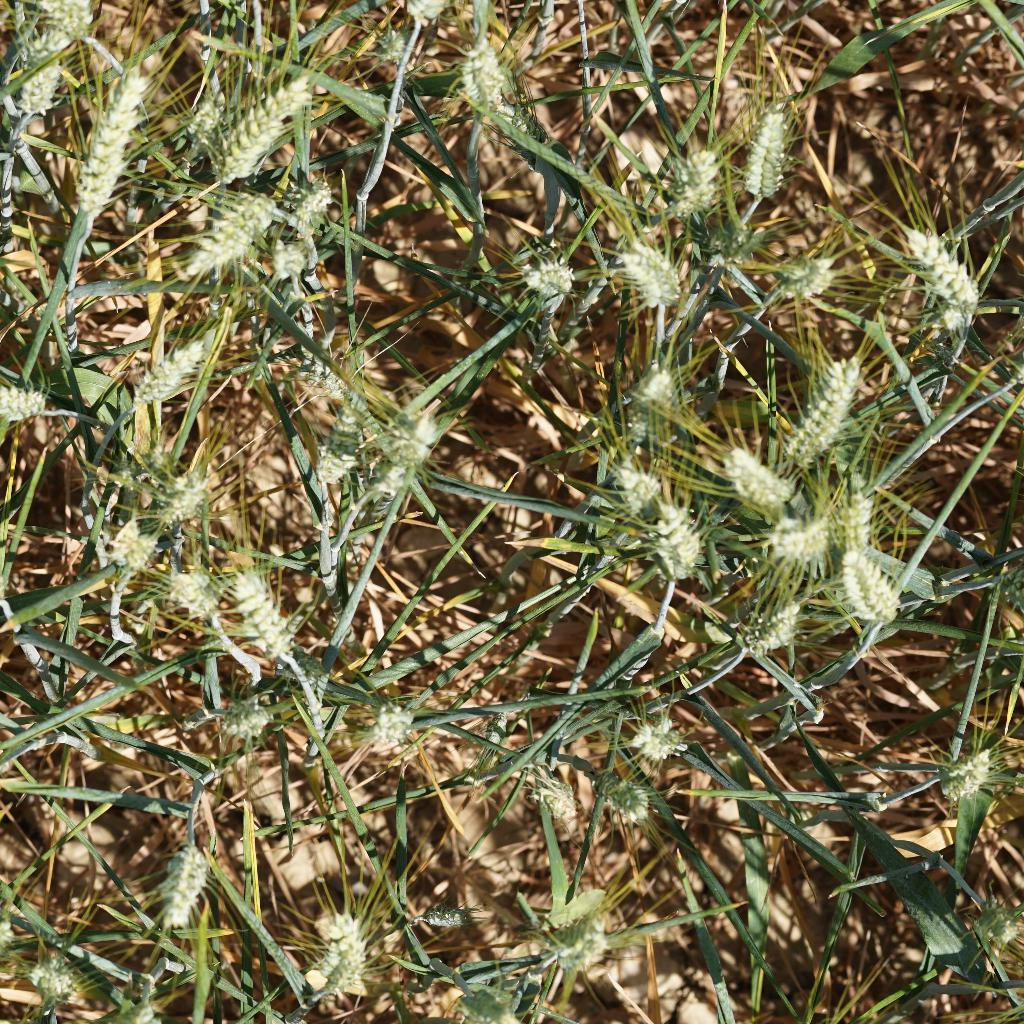0-0: (200, 74, 313, 189), (78, 51, 153, 209), (777, 343, 867, 462), (896, 213, 986, 321), (453, 26, 541, 127), (228, 557, 306, 664), (613, 225, 697, 321), (187, 185, 268, 283), (737, 586, 823, 672), (742, 88, 795, 219), (836, 544, 909, 638), (278, 339, 371, 409), (114, 342, 209, 407), (310, 899, 373, 997), (636, 499, 706, 587), (651, 134, 722, 220), (531, 912, 632, 972), (156, 823, 212, 931), (12, 18, 67, 126), (512, 236, 579, 320), (309, 404, 365, 496), (365, 406, 447, 468), (522, 754, 587, 829), (626, 709, 707, 768), (598, 449, 664, 520), (720, 444, 788, 512), (580, 770, 656, 830), (347, 687, 417, 751), (365, 435, 427, 507), (762, 247, 843, 302), (21, 0, 107, 51), (215, 686, 283, 750), (146, 460, 216, 522), (620, 354, 673, 430), (465, 703, 516, 781), (284, 179, 348, 240), (972, 888, 1024, 960), (178, 81, 227, 157), (765, 507, 833, 561), (167, 564, 224, 628), (103, 507, 159, 571), (829, 478, 875, 550), (703, 215, 765, 268), (463, 979, 536, 1024), (258, 643, 334, 686), (26, 953, 82, 1009), (946, 742, 994, 806), (0, 374, 51, 429), (93, 452, 146, 499), (271, 240, 317, 292), (413, 895, 475, 931), (369, 23, 411, 68)
